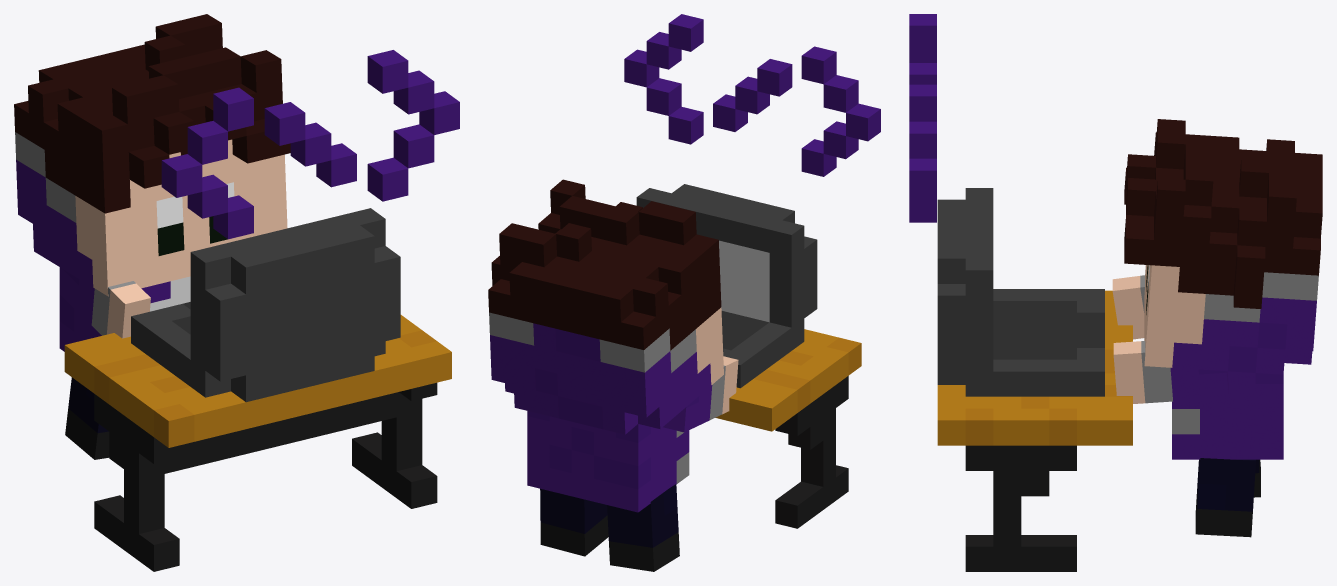
Rendered from CharMKW.glb.
3 views of the same model, side by side, from view 1: azimuth 30°, elevation 25°; view 2: azimuth 150°, elevation 25°; view 3: azimuth 270°, elevation 25° (orthographic). The views are drawn at different scales.
Visible parts, largest first — view 1: Untitled.006, Untitled, Untitled.007, Untitled.001, Untitled.002, Untitled.003; view 2: Untitled, Untitled.006, Untitled.007, Untitled.002, Untitled.003, Untitled.004, Untitled.001; view 3: Untitled.006, Untitled, Untitled.002, Untitled.007, Untitled.005, Untitled.004, Untitled.001.
Part boxes in pixels (x1,y1,x2,y2): Untitled.006: [64, 208, 451, 571]; Untitled: [14, 14, 290, 296]; Untitled.007: [161, 50, 459, 239]; Untitled.001: [62, 270, 150, 338]; Untitled.002: [59, 267, 190, 351]; Untitled.003: [65, 377, 109, 459]; Untitled: [488, 179, 723, 434]; Untitled.006: [636, 184, 861, 528]; Untitled.007: [624, 14, 880, 176]; Untitled.002: [527, 411, 689, 512]; Untitled.003: [607, 484, 679, 571]; Untitled.004: [540, 488, 608, 556]; Untitled.001: [663, 356, 738, 432]; Untitled.006: [937, 188, 1132, 571]; Untitled: [1124, 119, 1322, 374]; Untitled.002: [1172, 371, 1283, 459]; Untitled.007: [909, 14, 936, 222]; Untitled.005: [1113, 341, 1228, 403]; Untitled.004: [1195, 458, 1255, 537]; Untitled.001: [1112, 275, 1144, 339].
Size of the model in its own units: 1.13 by 1.79 by 1.48.
8 materials, 8 textured.
